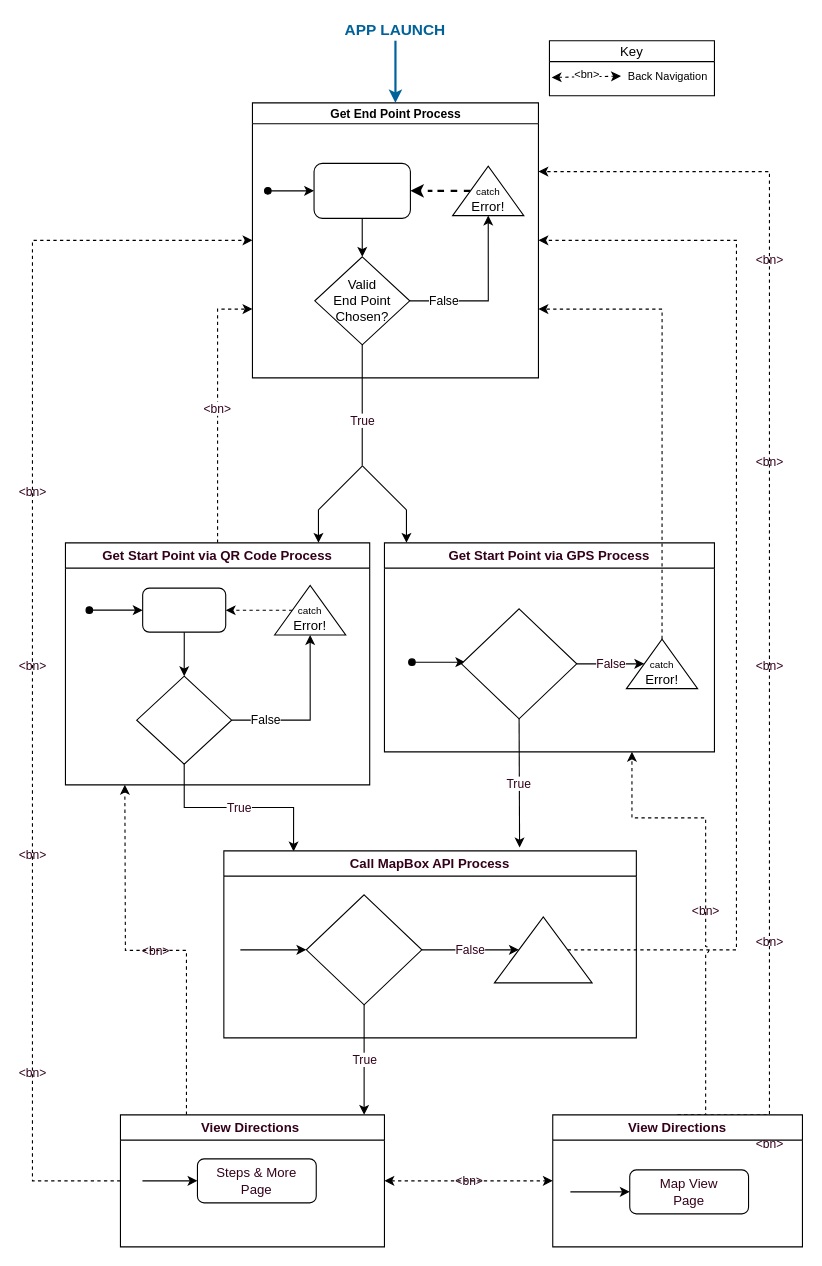
Some shapes in this 822 by 1266 pixel diagram are drawn without their labels. Each missing label, with the centre of its shape:
"200 HTTP Status Code Response?" goes at point 363,949.
"Building and Room Picker Page" goes at point 361,190.
"catch Error !" goes at point 542,949.
"QR Scanner Camera" goes at point 184,609.
"Successful GPS Connection?" goes at point 518,663.
"Successful QR scan?" goes at point 184,719.
